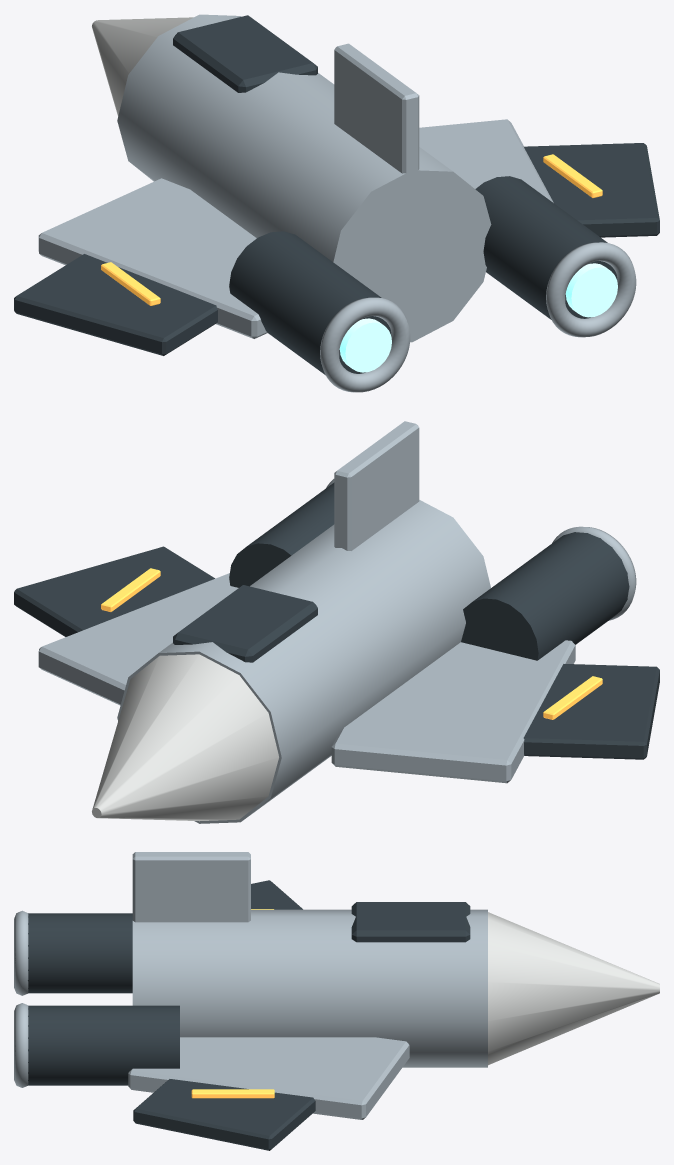
The model's file is spacecraft.glb.
3 renders of one model, top to bottom at view 1: azimuth 30°, elevation 25°; view 2: azimuth 150°, elevation 25°; view 3: azimuth 270°, elevation 25°, orthographic. The views are drawn at different scales.
Visible parts, largest first — view 1: fuselage, wing_root (×2), engine (×2), wing_tip (×2), engine_lip (×2), tail_fin, canopy, engine_emitter (×2), nose, wing_warning (×2); view 2: fuselage, wing_root (×2), nose, wing_tip (×2), engine (×2), tail_fin, canopy, wing_warning (×2), engine_lip; view 3: fuselage, engine (×2), wing_root, nose, wing_tip (×2), tail_fin, canopy, engine_lip (×2), wing_warning.
Part boxes in pixels (x1,y1,x2,y2): fuselage: [117, 14, 491, 342]; wing_root (×2): [38, 119, 553, 338]; engine (×2): [229, 176, 617, 375]; wing_tip (×2): [14, 143, 659, 355]; engine_lip (×2): [320, 242, 636, 392]; tail_fin: [334, 43, 419, 235]; canopy: [173, 15, 317, 92]; engine_emitter (×2): [339, 263, 617, 372]; nose: [92, 17, 193, 116]; wing_warning (×2): [101, 154, 602, 305]; fuselage: [117, 500, 490, 823]; wing_root (×2): [38, 573, 575, 783]; nose: [92, 654, 278, 821]; wing_tip (×2): [14, 546, 659, 759]; engine (×2): [229, 482, 629, 660]; tail_fin: [334, 421, 419, 550]; canopy: [173, 585, 317, 662]; wing_warning (×2): [101, 568, 602, 719]; engine_lip: [552, 526, 636, 620]; fuselage: [132, 909, 487, 1067]; engine (×2): [28, 913, 179, 1085]; wing_root: [128, 1037, 409, 1119]; nose: [488, 912, 659, 1065]; wing_tip (×2): [133, 880, 315, 1150]; tail_fin: [132, 852, 250, 922]; canopy: [351, 902, 470, 942]; engine_lip (×2): [14, 910, 28, 1087]; wing_warning: [191, 1089, 274, 1098].
Bounding box in the file's own units: 0.5146 × 0.192 × 0.545.
